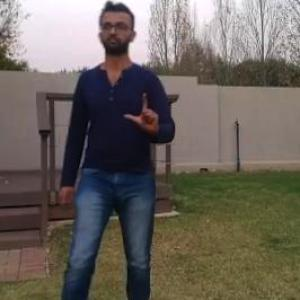land_hand: (114, 84, 161, 138)
